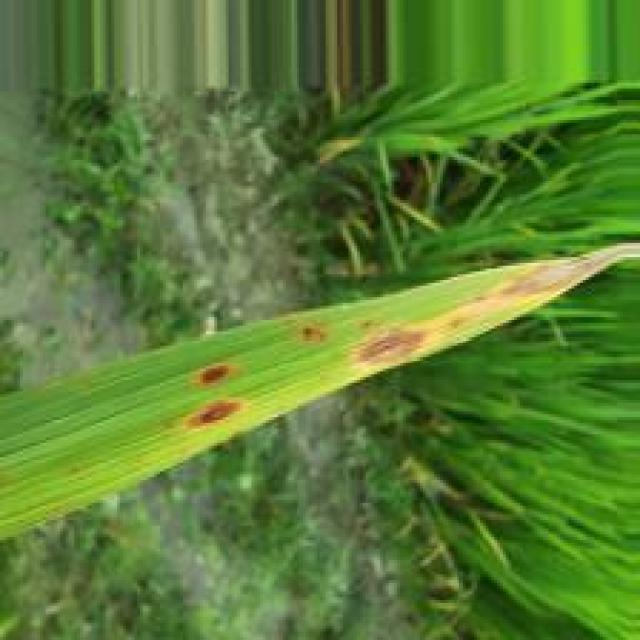Brown_Spot: (340, 322, 432, 368), (493, 260, 599, 297), (180, 400, 251, 432), (196, 358, 230, 388), (296, 322, 332, 343), (444, 314, 467, 332), (356, 317, 379, 332)
